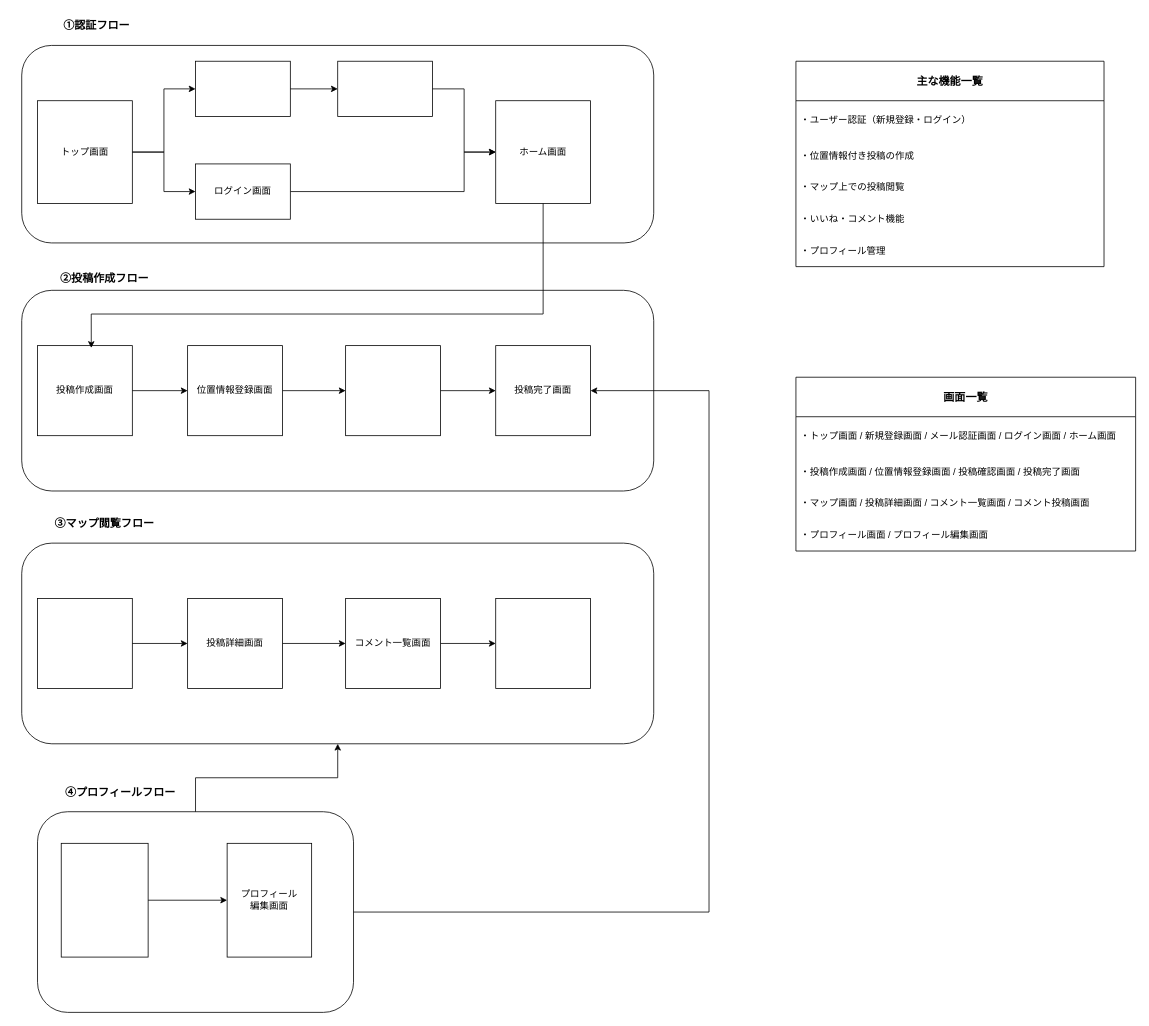
Image size: 1149x1026. Some labels were removed from this diagram. Each missing label, with the centre of its shape:
"コメント投稿画面" belongs at point (543, 643).
"プロフィール画面" belongs at point (104, 900).
"ホーム画面 （マップタブ）" belongs at point (84, 643).
"メール認証画面" belongs at point (385, 88).
"投稿確認画面" belongs at point (392, 390).
"新規登録画面" belongs at point (242, 88).
